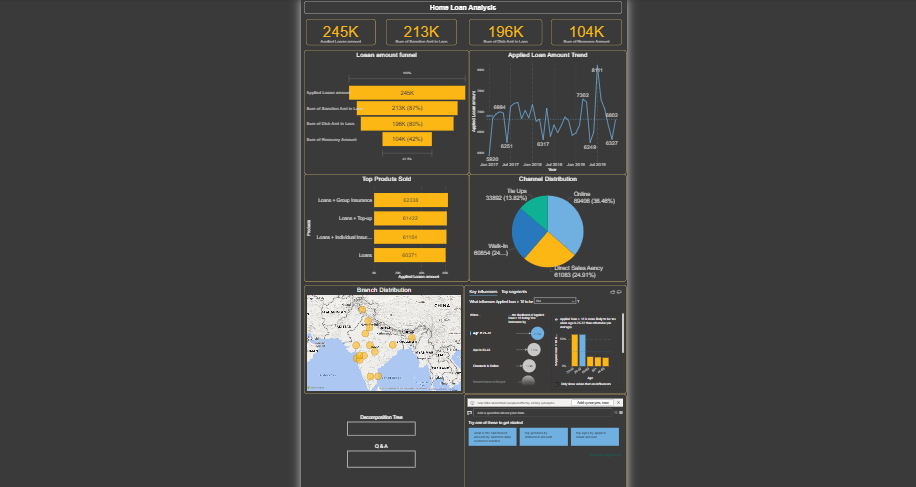

The page's visual inventory and layout, read from the dashboard file:
{"tool":"powerbi","page":{"name":"Home_loan_Dashboard","canvas":[1280,2000],"ordinal":0},"visuals":[{"type":"card","fields":{"Values":["Customer.Applied Loaan amount"]},"box":[21.3,83.6,273.6,103.5],"z":0},{"type":"card","fields":{"Values":["Sum(Sanction Data.Sanction Amt in Lacs)"]},"box":[334.5,83.6,279.2,103.5],"z":1000},{"type":"card","fields":{"Values":["Sum(Recovery Data.Recovery Amount)"]},"box":[982.3,83.6,279.2,103.5],"z":2000},{"type":"card","fields":{"Values":["Sum(Sanction Data.Disb Amt in Lacs)"]},"box":[660.6,83.6,287.8,103.5],"z":3000},{"type":"funnel","title":"Loaan amount funnel","fields":{"Y":["Customer.Applied Loaan amount","Sum(Sanction Data.Sanction Amt in Lacs)","Sum(Sanction Data.Disb Amt in Lacs)","Sum(Recovery Data.Recovery Amount)"]},"box":[10,204.3,650,490],"z":4000},{"type":"lineChart","title":"Applied Loan Amount Trend","fields":{"Y":["Customer.Applied Loaan amount"],"Category":["Dates.Month Yr.Variation.Date Hierarchy.Year","Dates.Month Yr.Variation.Date Hierarchy.Quarter","Dates.Month Yr.Variation.Date Hierarchy.Month"]},"box":[660,204.3,620,490],"z":5000},{"type":"barChart","title":"Top Produts Sold","fields":{"Y":["Customer.Applied Loaan amount"],"Category":["Product.Products"]},"box":[10,694.3,650,424.3],"z":6000},{"type":"pieChart","title":"Channel Distribution","fields":{"Y":["Customer.Applied Loaan amount"],"Category":["Channel.Channels"]},"box":[660,694.3,620,424.3],"z":7000},{"type":"map","title":"Branch Distribution","fields":{"Size":["Customer.Applied Loaan amount"],"Y":["Branch.Branch Latitute"],"X":["Branch.Branch Longitude"]},"box":[10,1131.4,630,428.6],"z":8000},{"type":"keyDriversVisual","title":"Branch Distribution","fields":{"Target":["Customer.Applied loan > 10"],"ExplainBy":["Customer.Age","Customer.Occupation","Customer.Salary","Customer.Gender","Branch.Branch Name","Channel.Channels","Product.Products"]},"box":[640,1131.4,640,428.6],"z":9000},{"type":"actionButton","title":"Decomposition Tree","box":[181.4,1641.4,270,81.4],"z":10000},{"type":"actionButton","title":"Q & A","box":[181.4,1754.3,270,92.9],"z":11000},{"type":"qnaVisual","title":"Branch Distribution","box":[640,1560,640,440],"z":13000},{"type":"textbox","box":[9.9,11.3,1251.7,51],"z":14000}]}

Visuals, with their boxes in screenshot pixels (x1, y1, x2, y2):
card - Customer.Applied Loaan amount: (153,53,216,77)
card - Sum(Sanction Data.Sanction Amt in Lacs): (225,53,290,77)
card - Sum(Recovery Data.Recovery Amount): (375,53,440,77)
card - Sum(Sanction Data.Disb Amt in Lacs): (301,53,367,77)
"Loaan amount funnel" funnel: (150,81,301,194)
"Applied Loan Amount Trend" lineChart: (301,81,444,194)
"Top Produts Sold" barChart: (150,194,301,292)
"Channel Distribution" pieChart: (301,194,444,292)
"Branch Distribution" map: (150,295,296,394)
"Branch Distribution" keyDriversVisual: (296,295,444,394)
"Decomposition Tree" actionButton: (190,413,252,432)
"Q & A" actionButton: (190,439,252,461)
"Branch Distribution" qnaVisual: (296,394,444,486)
textbox: (150,36,440,48)
